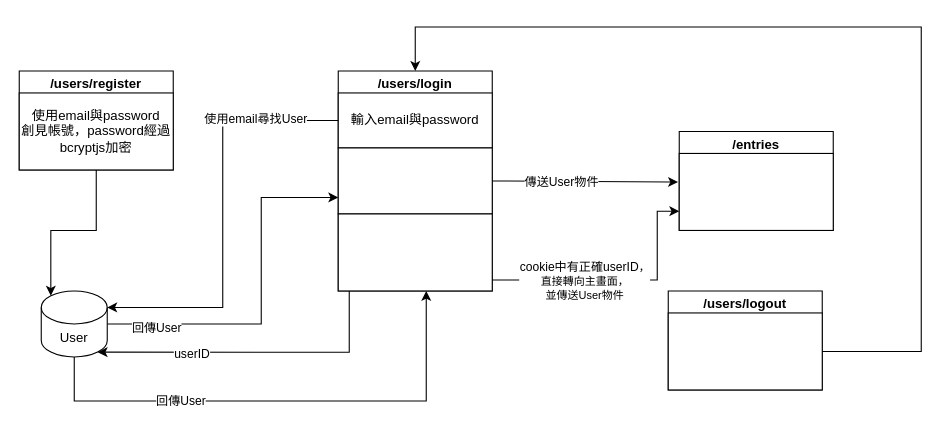
This 949x429 diagram has some shape labels left out. The shapes that lost their labels are listed below. From the top down, each one's centre as x and y in pixels, then its label:
the point at 414,180: 輸入password與資料庫password比對
the point at 755,191: 登入成功移轉制主畫面，並於瀏覽器cookies中存放user的ID
the point at 414,252: 登入成功後再次訪問，瀏覽器會送出含有cookie的Request，使用cookie中的userID尋找User
the point at 744,351: 登出時刪除瀏覽器cookies中存放user的ID，並導回login
